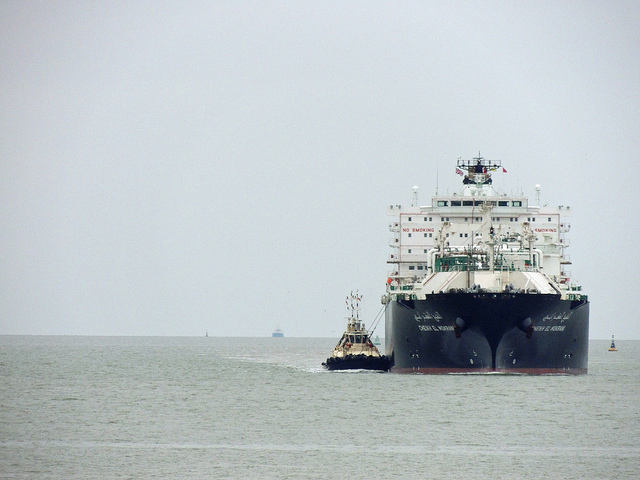LNG_ship: (383, 148, 592, 374)
tug_boat: (321, 279, 388, 373)
